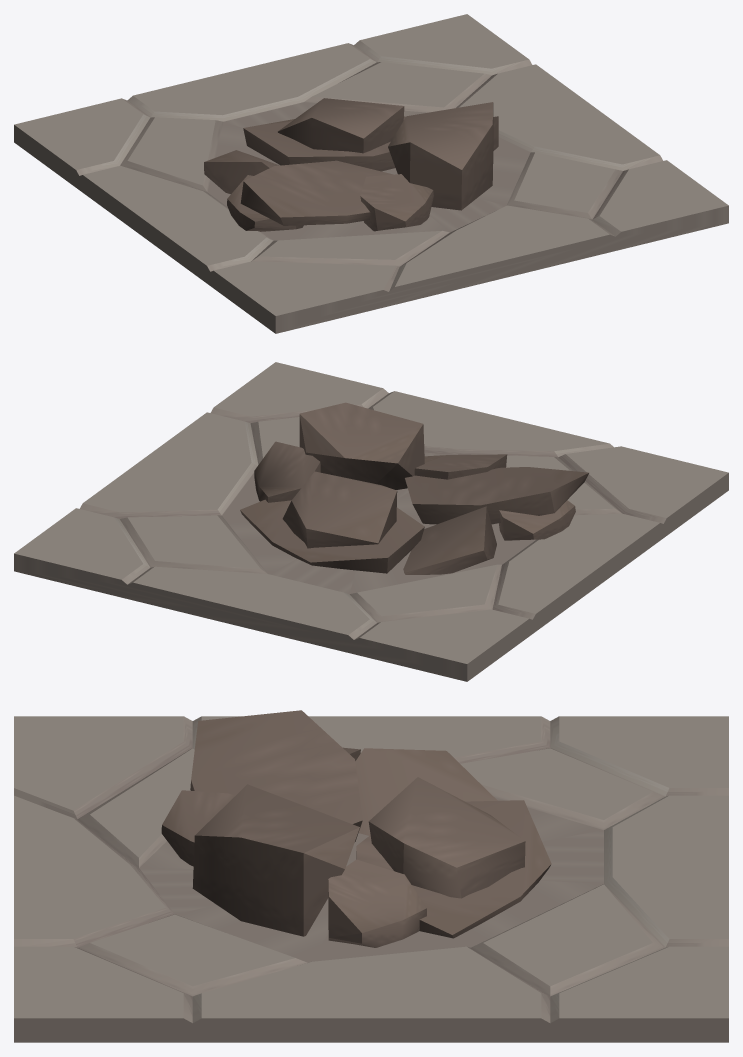
File: floor_tile_large_rocks.glb
3 renders of one model, top to bottom at view 1: azimuth 30°, elevation 25°; view 2: azimuth 150°, elevation 25°; view 3: azimuth 270°, elevation 25°, orthographic. The views are drawn at different scales.
Visible parts, largest first — view 1: floor_tile_large_rocks; view 2: floor_tile_large_rocks; view 3: floor_tile_large_rocks.
Part boxes in pixels (left/top/right/bottom): floor_tile_large_rocks: left=14, top=14, right=728, bottom=333; floor_tile_large_rocks: left=14, top=362, right=728, bottom=681; floor_tile_large_rocks: left=14, top=710, right=728, bottom=1042.
Size of the model in its own units: 4 by 0.6362 by 4.
1 material, 1 textured.
